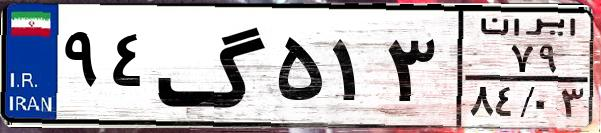0: (535, 70, 560, 125)
1: (330, 28, 385, 110)
3: (385, 28, 445, 110), (560, 70, 590, 125)
4: (110, 28, 156, 98), (495, 70, 520, 125)
5: (270, 28, 330, 110)
7: (508, 27, 537, 80)
8: (470, 70, 495, 125)
9: (57, 26, 110, 100), (537, 27, 568, 80)
گ: (156, 12, 270, 120)
